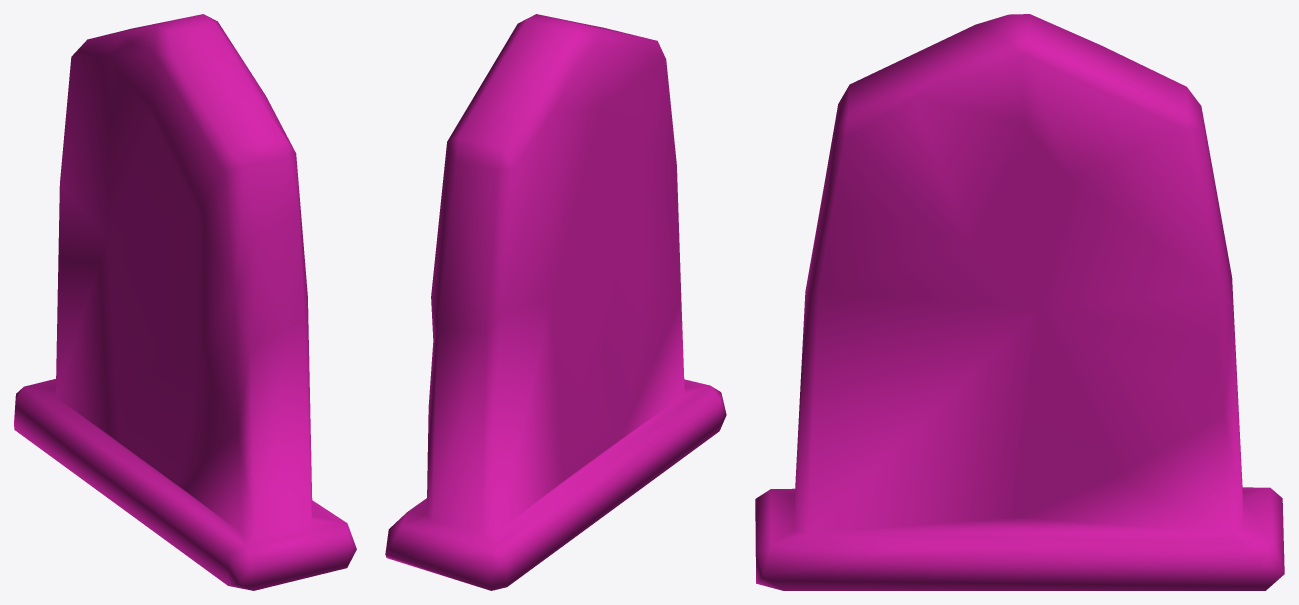
File: Tombstones.fbx
The picture shows the model from 3 angles, left to right: view 1: azimuth 30°, elevation 25°; view 2: azimuth 150°, elevation 25°; view 3: azimuth 270°, elevation 25°; orthographic projection. The views are drawn at different scales.
Parts seen in each view (by area): view 1: Tombstones; view 2: Tombstones; view 3: Tombstones.
Part boxes in pixels (x1,y1,x2,y2): Tombstones: (14,14,356,590); Tombstones: (385,14,726,590); Tombstones: (755,14,1284,590).
Bounding box in the file's own units: 121 × 451 × 406.
